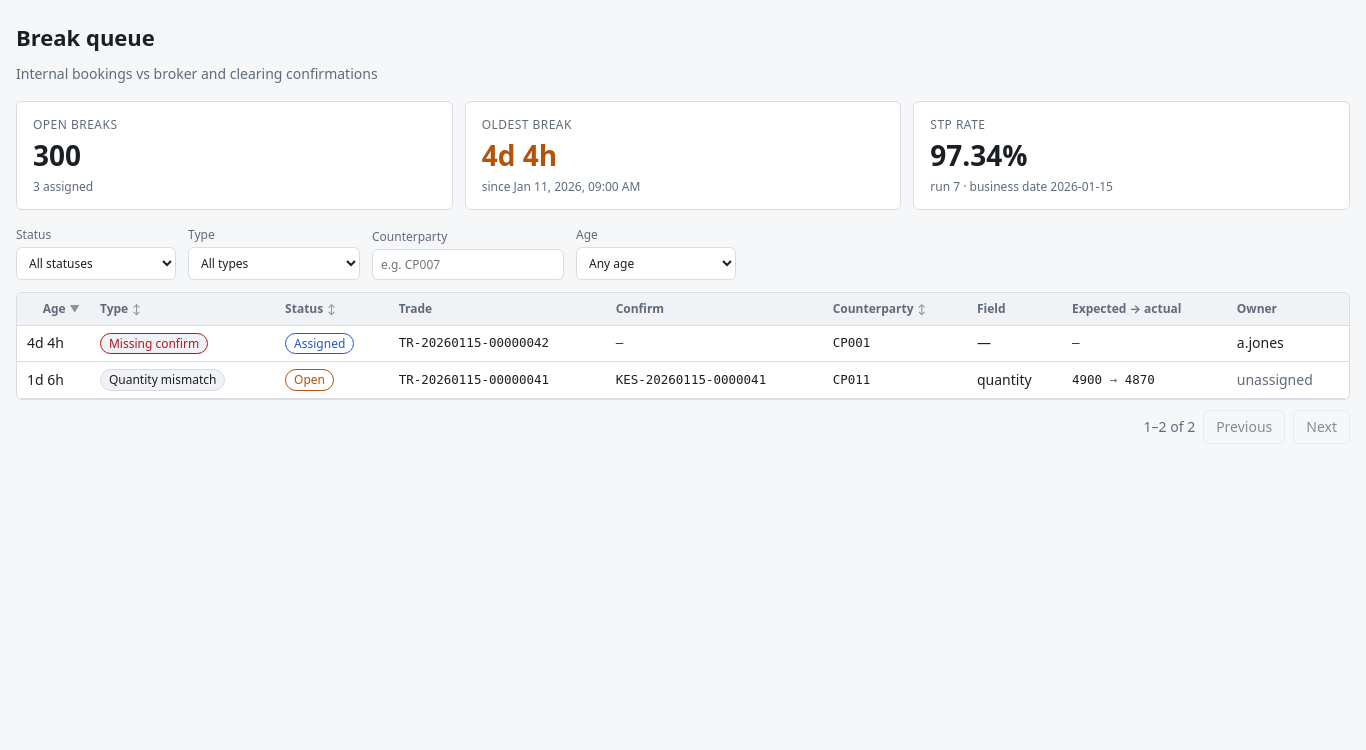
Test: break drawer › opens from a row and shows expected against actual, highlighting the broken field
Click the row named "Break 41" at (683, 380), box [17, 362, 1349, 398]
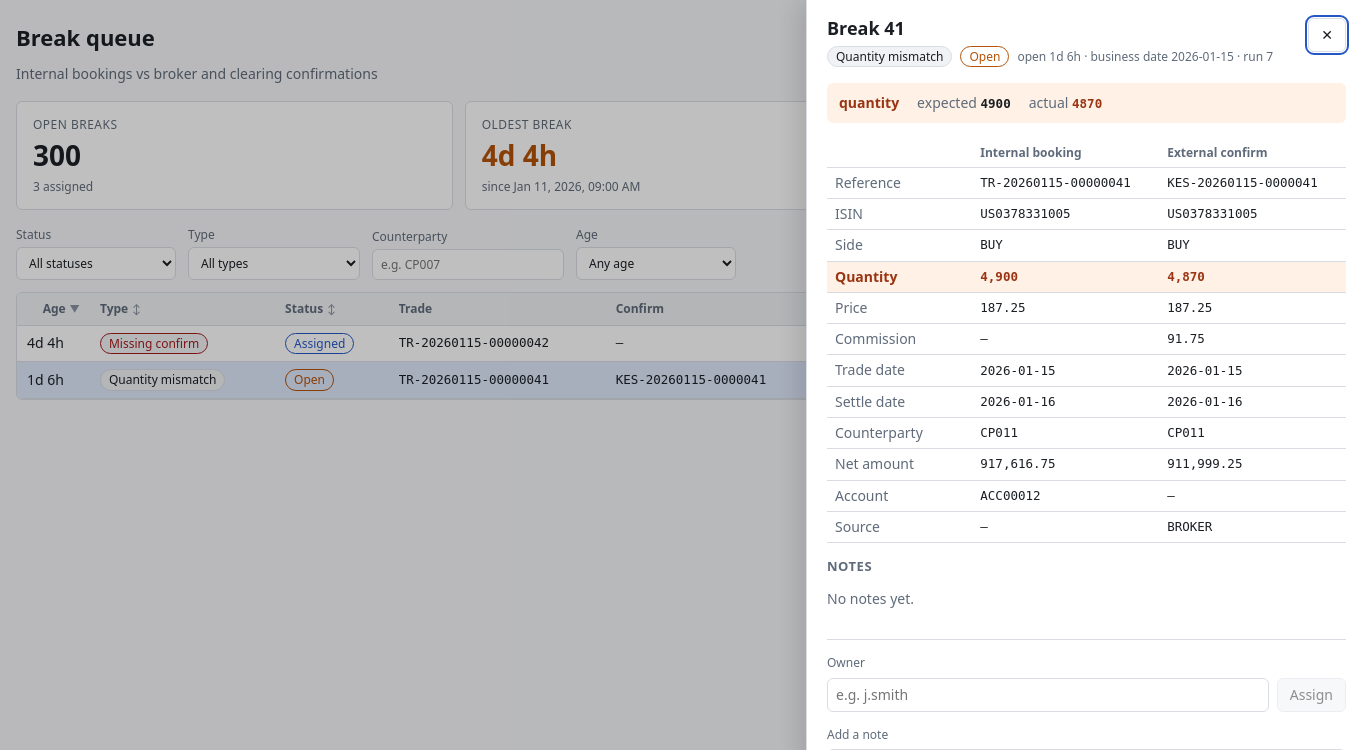
Check: the element named "Expected versus actual" shows "quantity", box [839, 93, 899, 112]
Check: the element named "Expected versus actual" shows "expected 4900", box [827, 83, 1346, 123]
Check: the element named "Expected versus actual" shows "actual 4870", box [827, 83, 1346, 123]
